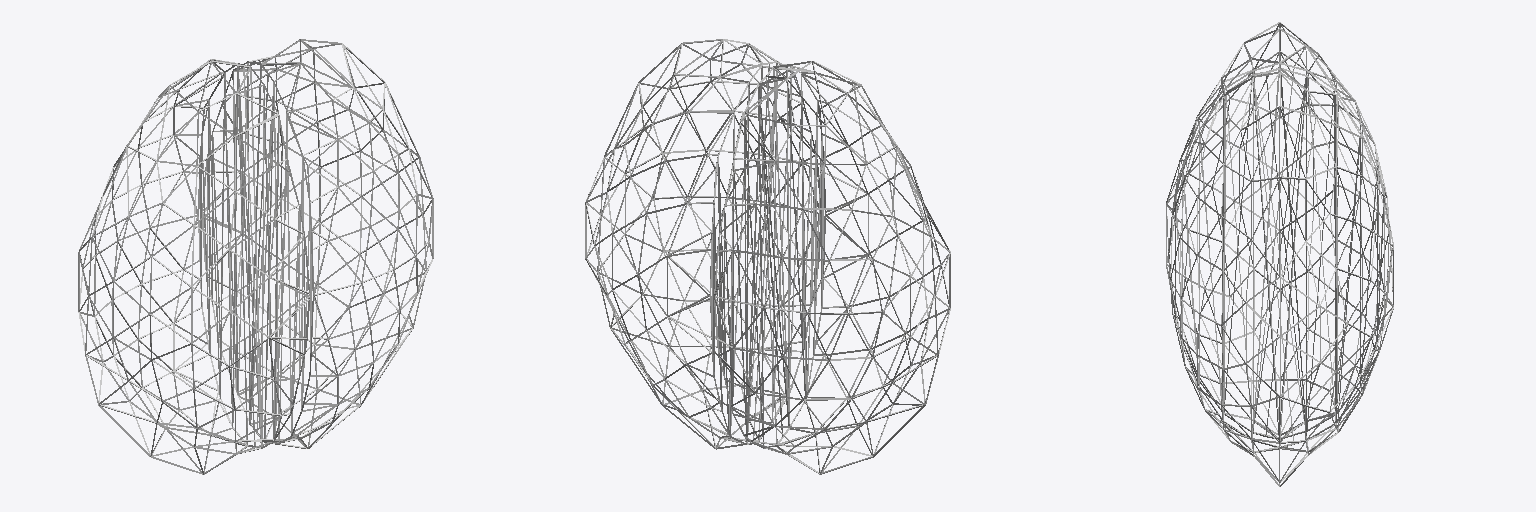
File: brain.obj
3 views of the same model, side by side, from view 1: azimuth 30°, elevation 25°; view 2: azimuth 150°, elevation 25°; view 3: azimuth 270°, elevation 25° (orthographic).
Visible parts, largest first — view 1: GeoSphere005, GeoSphere004; view 2: GeoSphere005, GeoSphere004; view 3: GeoSphere004, GeoSphere005.
Boxes of the visible parts, box(x1,y1,x2,y2) form: GeoSphere005: box(78, 59, 309, 474); GeoSphere004: box(202, 39, 433, 448); GeoSphere005: box(714, 61, 950, 474); GeoSphere004: box(585, 39, 820, 449); GeoSphere004: box(1168, 68, 1393, 486); GeoSphere005: box(1166, 22, 1391, 439).
Size of the model in its own units: 214 by 247 by 124.